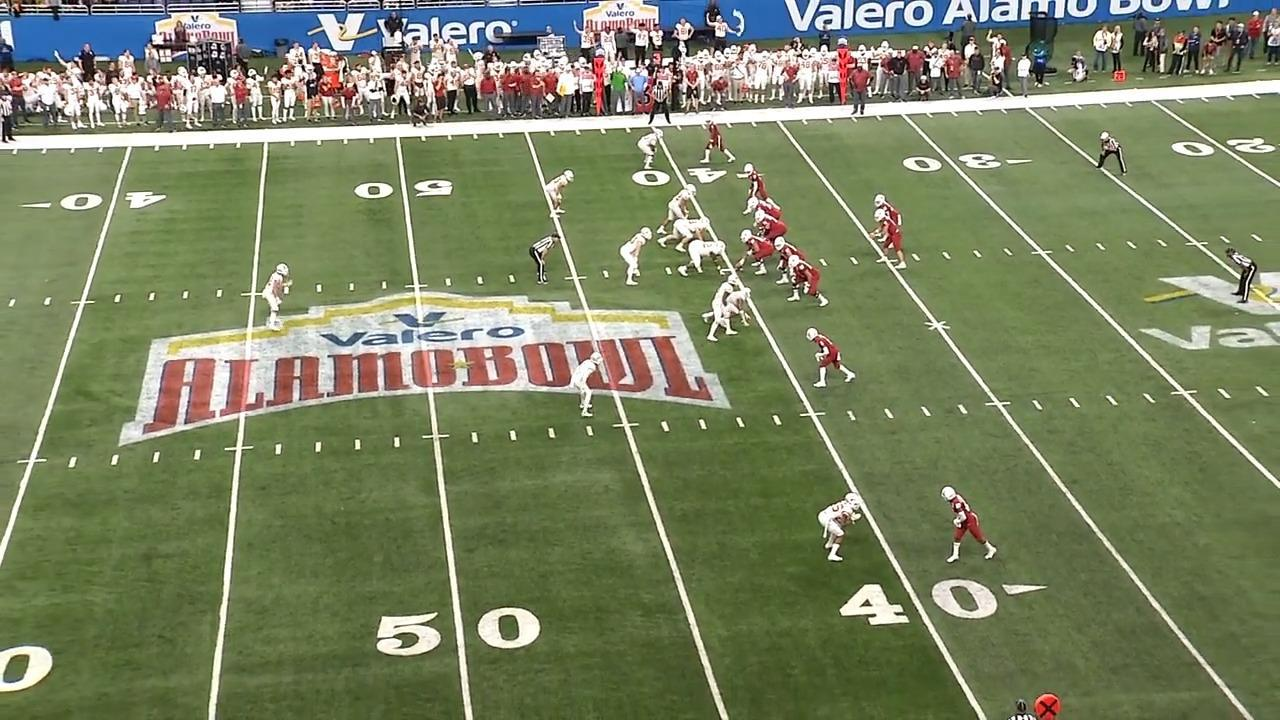defense: (820, 489, 866, 564), (706, 274, 741, 343), (571, 344, 603, 419), (264, 261, 294, 331), (621, 224, 654, 287), (663, 183, 700, 237), (677, 239, 728, 278), (665, 217, 713, 256), (546, 169, 577, 222), (724, 286, 756, 326), (638, 125, 664, 174)
oline: (785, 256, 829, 310), (739, 229, 777, 277), (772, 238, 807, 290), (747, 194, 787, 223), (753, 214, 789, 245)
qb: (877, 204, 909, 271)
ref: (529, 231, 564, 288), (1231, 249, 1261, 309), (1097, 128, 1130, 180), (647, 81, 672, 129), (0, 92, 17, 149)
skill: (941, 484, 1002, 568), (808, 325, 862, 391), (741, 163, 780, 211), (701, 119, 737, 167), (874, 193, 904, 227)
